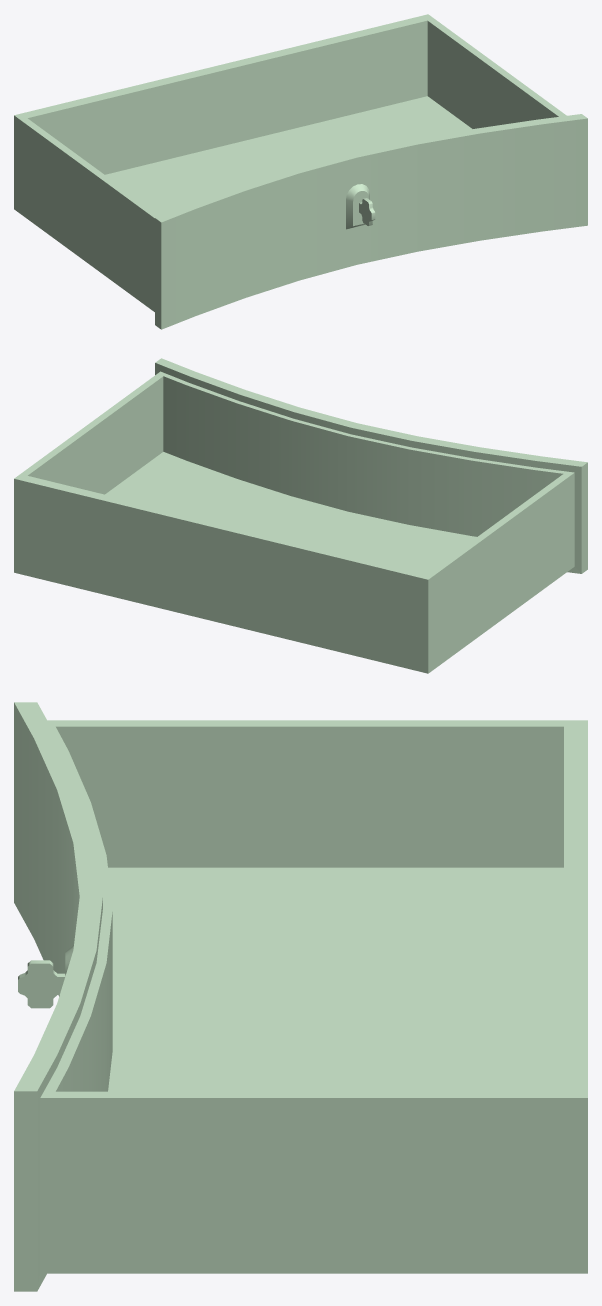
Rendered from SM_Desk_04b.fbx.
3 renders of one model, top to bottom at view 1: azimuth 30°, elevation 25°; view 2: azimuth 150°, elevation 25°; view 3: azimuth 270°, elevation 25°, orthographic. The views are drawn at different scales.
Parts seen in each view (by area): view 1: SM_Desk_04b; view 2: SM_Desk_04b; view 3: SM_Desk_04b.
Part boxes in pixels (left/top/right/bottom): SM_Desk_04b: left=14, top=14, right=587, bottom=329; SM_Desk_04b: left=14, top=358, right=587, bottom=673; SM_Desk_04b: left=14, top=702, right=587, bottom=1291.
Bounding box in the file's own units: 72.15 × 17.33 × 44.97.
